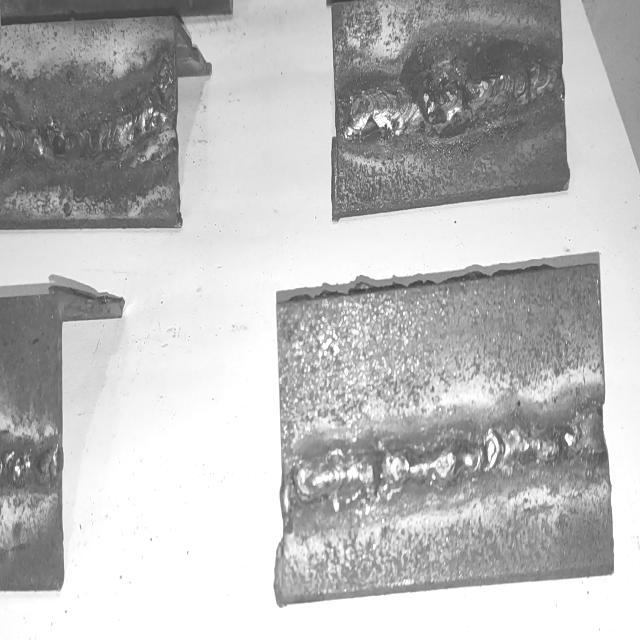Defect: (419, 21, 487, 145), (518, 388, 608, 473), (38, 106, 92, 174), (0, 439, 60, 487), (148, 54, 178, 128)
Welding Line: (286, 400, 601, 510), (341, 55, 556, 134), (2, 91, 170, 163)
Workpiece: (268, 254, 612, 596), (324, 0, 572, 222), (0, 22, 185, 232), (0, 290, 72, 592)
